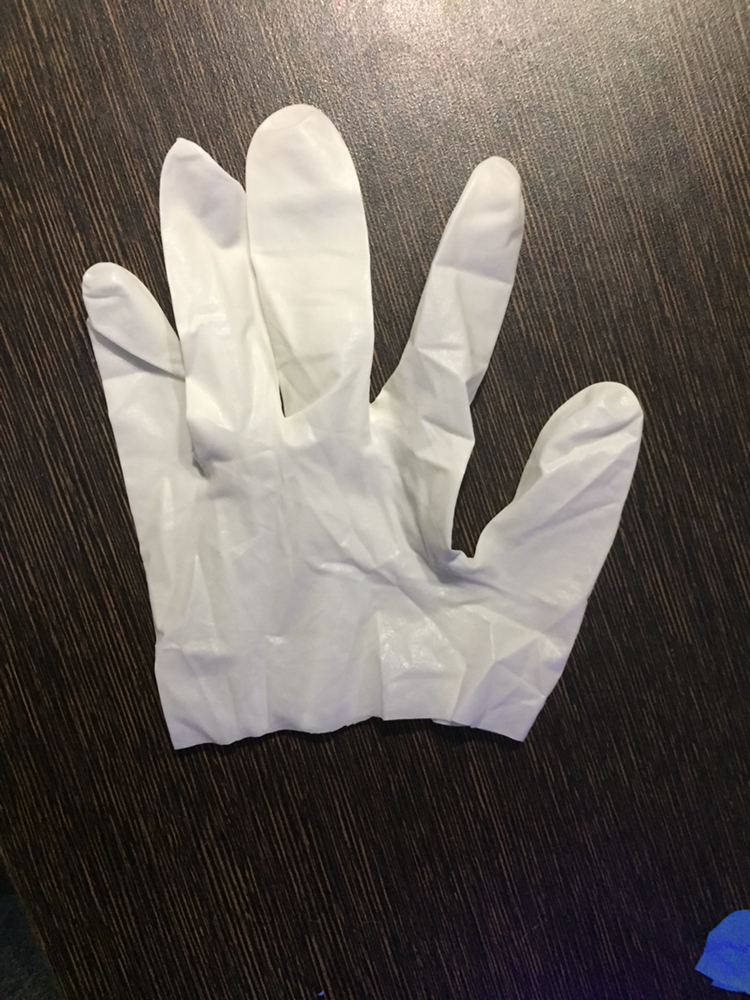defected: (74, 74, 691, 816)
